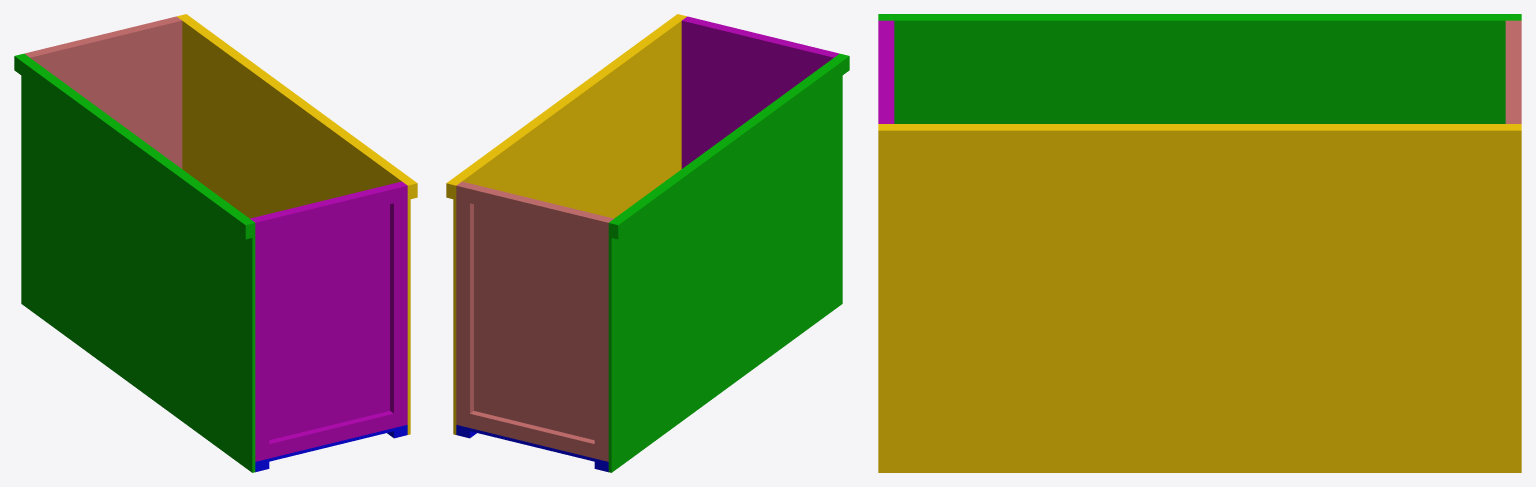
The model's file is result.glb.
3 renders of one model, left to right at view 1: azimuth 30°, elevation 25°; view 2: azimuth 150°, elevation 25°; view 3: azimuth 270°, elevation 25°, orthographic. The views are drawn at different scales.
Visible parts, largest first — view 1: e5cc2fa2-0e60-4ee2-9c75-3d7b2611633e__Box_6, a2d4d590-700b-43f9-a885-eb85cf789317__Box_3, 2e942a4e-766f-4e38-85f6-600f826e22fd__undefined, 6e273e9b-df18-44fc-a1e0-b103a0589faa__undefined, 025dca73-643a-4ad2-b362-e830049764e2__Box_7, efcba6b4-fa78-4cda-8919-e40807d62460__undefined, 6ebde446-542f-4922-ad7c-de1e205bae91__Box_4, 4e11eca3-4a95-442d-83fa-31bc3ebdcf66__undefined, a1494d56-feeb-4420-a02d-68908bbc2844__Box_5, 667e411c-0a1e-498b-80e5-743415047410__undefined, 60a22ae2-46f7-429b-baa0-ca50b044444e__Box, 840e890b-d5c0-4132-835b-e1d8bec209fb__undefined; view 2: e5cc2fa2-0e60-4ee2-9c75-3d7b2611633e__Box_6, 6e273e9b-df18-44fc-a1e0-b103a0589faa__undefined, 2e942a4e-766f-4e38-85f6-600f826e22fd__undefined, a2d4d590-700b-43f9-a885-eb85cf789317__Box_3, 025dca73-643a-4ad2-b362-e830049764e2__Box_7, a83961fb-ba86-4faf-ac13-5a43ea289e8d__undefined, 39f2c057-2074-4721-ade4-ad975031198d__undefined, 840e890b-d5c0-4132-835b-e1d8bec209fb__undefined, 4722cf55-338c-4f5e-9137-792fb88def3a__undefined, 667e411c-0a1e-498b-80e5-743415047410__undefined, 60a22ae2-46f7-429b-baa0-ca50b044444e__Box, 4e11eca3-4a95-442d-83fa-31bc3ebdcf66__undefined; view 3: 2e942a4e-766f-4e38-85f6-600f826e22fd__undefined, e5cc2fa2-0e60-4ee2-9c75-3d7b2611633e__Box_6, 667e411c-0a1e-498b-80e5-743415047410__undefined, 025dca73-643a-4ad2-b362-e830049764e2__Box_7, 4e11eca3-4a95-442d-83fa-31bc3ebdcf66__undefined, 840e890b-d5c0-4132-835b-e1d8bec209fb__undefined.
Boxes of the visible parts, x1,y1,x2,y2 form: e5cc2fa2-0e60-4ee2-9c75-3d7b2611633e__Box_6: (21,53,255,472); a2d4d590-700b-43f9-a885-eb85cf789317__Box_3: (250,181,403,440); 2e942a4e-766f-4e38-85f6-600f826e22fd__undefined: (177,15,410,434); 6e273e9b-df18-44fc-a1e0-b103a0589faa__undefined: (28,19,182,168); 025dca73-643a-4ad2-b362-e830049764e2__Box_7: (14,54,252,239); efcba6b4-fa78-4cda-8919-e40807d62460__undefined: (390,183,407,427); 6ebde446-542f-4922-ad7c-de1e205bae91__Box_4: (252,216,269,461); 4e11eca3-4a95-442d-83fa-31bc3ebdcf66__undefined: (265,186,393,233); a1494d56-feeb-4420-a02d-68908bbc2844__Box_5: (269,411,393,458); 667e411c-0a1e-498b-80e5-743415047410__undefined: (180,14,417,198); 60a22ae2-46f7-429b-baa0-ca50b044444e__Box: (255,425,407,464); 840e890b-d5c0-4132-835b-e1d8bec209fb__undefined: (38,20,166,52); e5cc2fa2-0e60-4ee2-9c75-3d7b2611633e__Box_6: (608,53,842,472); 6e273e9b-df18-44fc-a1e0-b103a0589faa__undefined: (460,181,613,440); 2e942a4e-766f-4e38-85f6-600f826e22fd__undefined: (453,15,686,434); a2d4d590-700b-43f9-a885-eb85cf789317__Box_3: (681,19,835,168); 025dca73-643a-4ad2-b362-e830049764e2__Box_7: (611,54,849,239); a83961fb-ba86-4faf-ac13-5a43ea289e8d__undefined: (456,183,473,427); 39f2c057-2074-4721-ade4-ad975031198d__undefined: (594,216,611,461); 840e890b-d5c0-4132-835b-e1d8bec209fb__undefined: (470,186,598,233); 4722cf55-338c-4f5e-9137-792fb88def3a__undefined: (470,411,594,458); 667e411c-0a1e-498b-80e5-743415047410__undefined: (446,14,683,198); 60a22ae2-46f7-429b-baa0-ca50b044444e__Box: (456,425,608,464); 4e11eca3-4a95-442d-83fa-31bc3ebdcf66__undefined: (697,20,825,52); 2e942a4e-766f-4e38-85f6-600f826e22fd__undefined: (878,124,1521,472); e5cc2fa2-0e60-4ee2-9c75-3d7b2611633e__Box_6: (878,18,1521,123); 667e411c-0a1e-498b-80e5-743415047410__undefined: (878,126,1521,150); 025dca73-643a-4ad2-b362-e830049764e2__Box_7: (878,14,1521,18); 4e11eca3-4a95-442d-83fa-31bc3ebdcf66__undefined: (878,30,889,114); 840e890b-d5c0-4132-835b-e1d8bec209fb__undefined: (1510,30,1521,114).
Bounding box in the file's own units: 452 × 626 × 1052.
